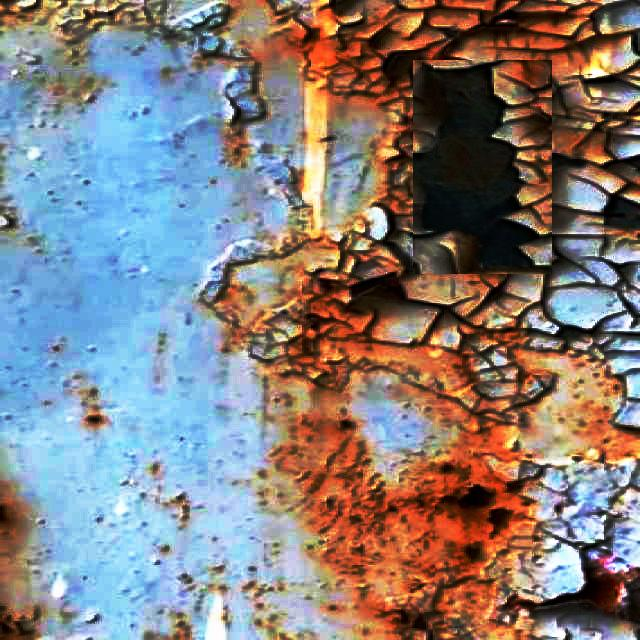Corrosion: (276, 416, 550, 640), (357, 272, 567, 414), (306, 227, 532, 356), (414, 66, 537, 268), (572, 462, 640, 562), (354, 288, 441, 344), (585, 549, 640, 616), (374, 25, 448, 56), (582, 575, 630, 616), (428, 8, 482, 30), (384, 51, 421, 80), (334, 0, 375, 26), (607, 197, 640, 228), (458, 486, 493, 508), (380, 0, 396, 16)
